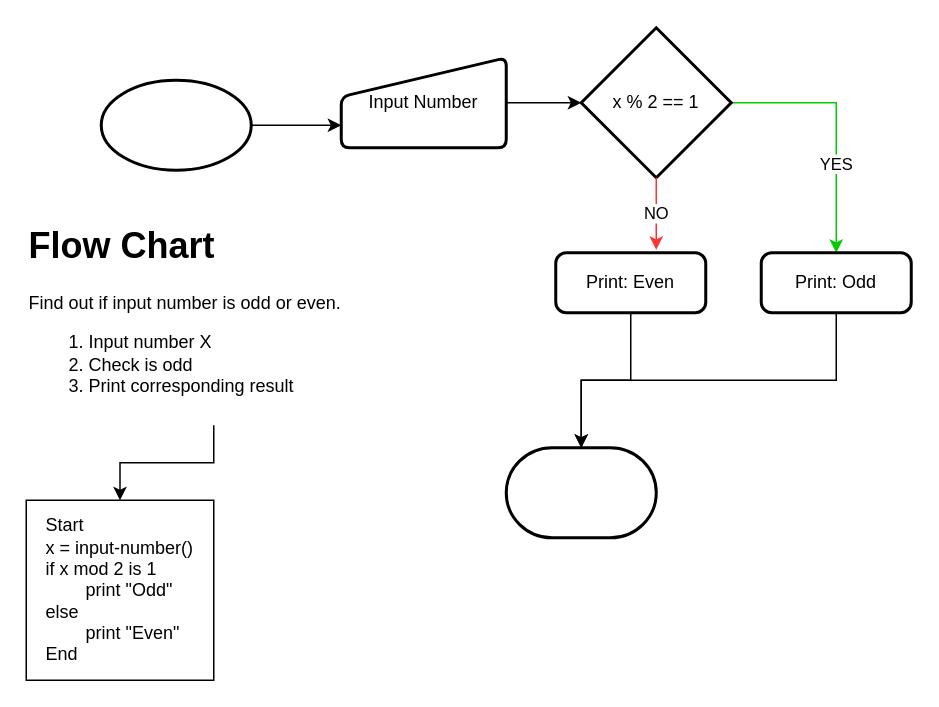
The diagram is 939 pixels wide and 707 high, and some of its shapes have lost their labels. Each missing label, with the centre of its shape:
"End" goes at (580,492).
"Start" goes at (175,124).
